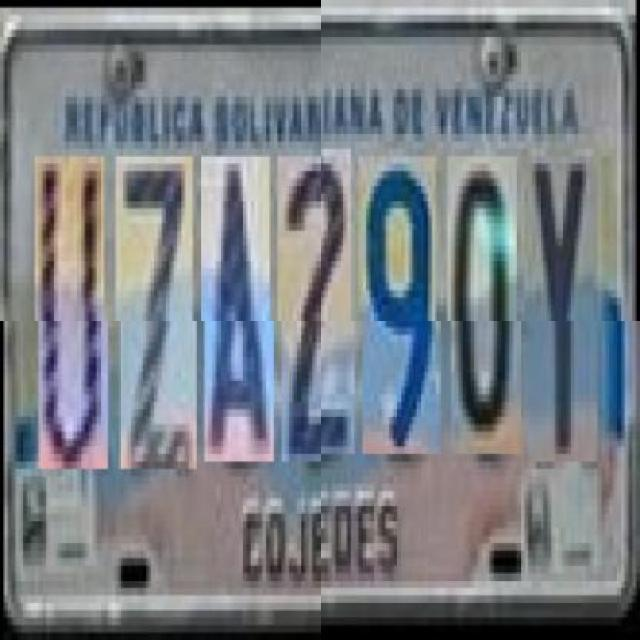2: (280, 157, 354, 461)
9: (362, 163, 440, 462)
a: (203, 157, 274, 461)
o: (451, 163, 522, 462)
u: (39, 156, 110, 470)
y: (528, 164, 598, 468)
z: (119, 156, 196, 470)
